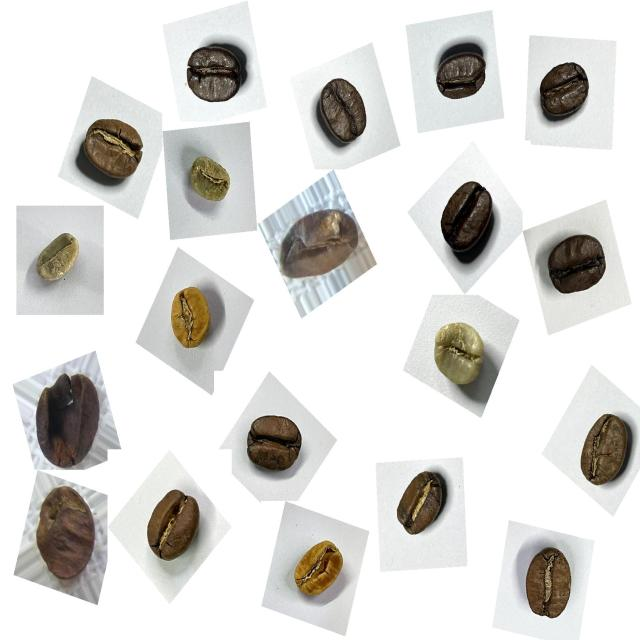bad: (22, 479, 106, 601), (26, 364, 110, 478), (281, 195, 363, 284)
dark: (432, 165, 507, 272), (538, 220, 615, 312), (531, 46, 601, 132), (428, 33, 497, 117)
green: (422, 308, 497, 400), (28, 222, 90, 298), (180, 144, 241, 217)
light: (283, 525, 357, 614), (159, 277, 231, 365)
medium: (133, 472, 216, 575), (564, 403, 640, 502), (514, 540, 588, 630), (75, 108, 154, 192), (177, 32, 254, 116), (240, 403, 312, 488), (309, 68, 381, 152), (387, 463, 458, 547)
